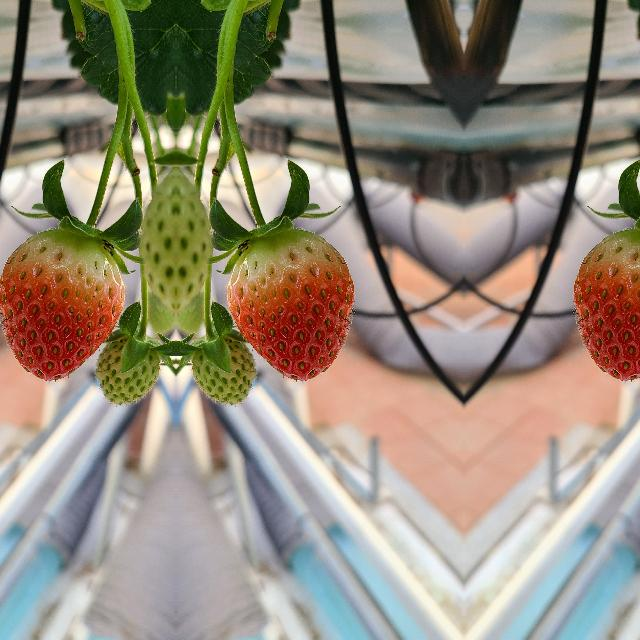Health_25: (188, 330, 256, 406), (94, 330, 162, 406)
Health_75: (225, 229, 352, 381), (0, 229, 124, 381), (573, 229, 640, 381)
